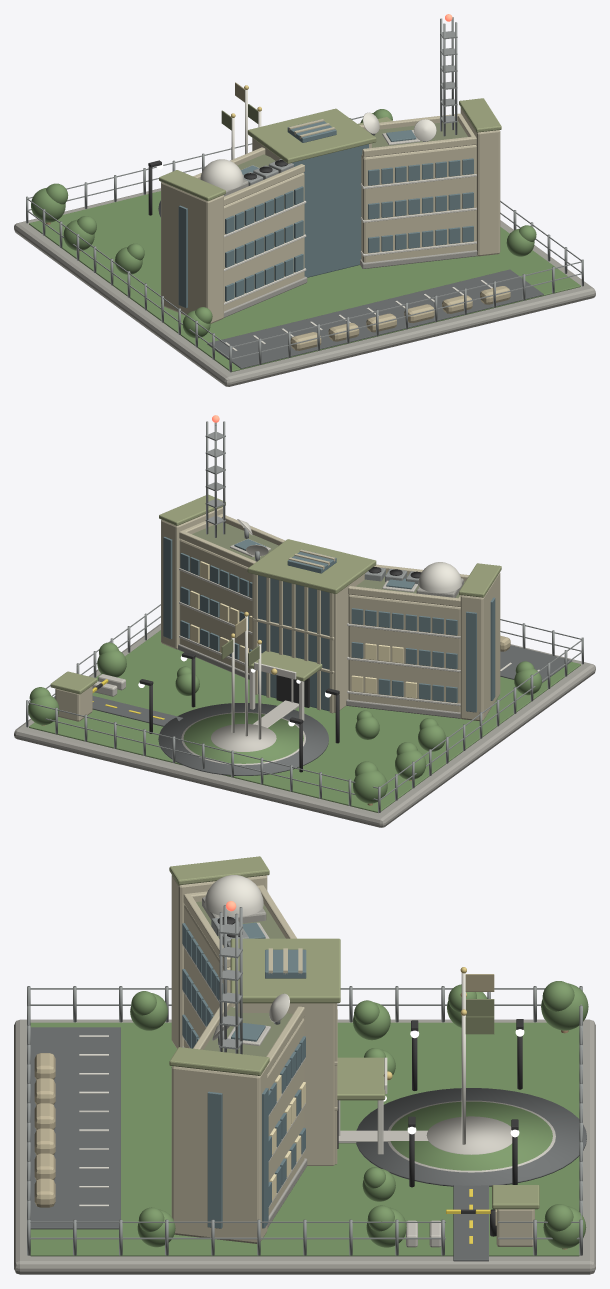
3 renders of one model, top to bottom at view 1: azimuth 30°, elevation 25°; view 2: azimuth 150°, elevation 25°; view 3: azimuth 270°, elevation 25°, orthographic. The views are drawn at different scales.
Parts seen in each view (by area): view 1: Cube.001, Cube, Cube.030, Cube.002, Cube.166, Cube.156, Cube.099, Cube.178, Cube.087, Cube.084, Cube.157, Cube.159 (+13 smaller); view 2: Cube.001, Cube, Cube.099, Cube.166, Cylinder.001, Cube.030, Cube.156, Cube.178, Cylinder.003, Cube.176, Cube.087, Cylinder.004 (+25 smaller); view 3: Cube.001, Cube, Cube.002, Cube.087, Cylinder.001, Cylinder.003, Cube.178, Cube.177, Cube.030, Cylinder.004, Cube.013, Cube.156 (+38 smaller).
Boxes of the visible parts, x1,y1,x2,y2 form: Cube.001: (29, 191, 580, 371); Cube: (14, 188, 595, 386); Cube.030: (361, 145, 476, 262); Cube.002: (207, 269, 543, 368); Cube.166: (292, 144, 368, 277); Cube.156: (161, 182, 223, 323); Cube.099: (224, 172, 304, 311); Cube.178: (247, 108, 376, 163); Cube.087: (460, 107, 500, 256); Cube.084: (362, 136, 476, 157); Cube.157: (159, 170, 225, 201); Cube.159: (178, 205, 187, 308); Cube.001: (29, 630, 580, 812); Cube: (14, 623, 595, 827); Cube.099: (348, 594, 460, 712); Cube.166: (258, 575, 329, 711); Cylinder.001: (158, 703, 328, 775); Cube.030: (179, 539, 252, 673); Cube.156: (460, 572, 500, 720); Cube.178: (247, 539, 376, 593); Cylinder.003: (183, 713, 303, 763); Cube.176: (333, 571, 367, 712); Cube.087: (161, 507, 222, 649); Cylinder.004: (211, 724, 276, 751); Cube.001: (30, 1022, 579, 1256); Cube: (14, 1019, 595, 1274); Cube.002: (30, 1027, 120, 1229); Cube.087: (171, 1066, 267, 1243); Cylinder.001: (356, 1088, 586, 1186); Cylinder.003: (390, 1101, 552, 1170); Cube.178: (230, 938, 340, 1003); Cube.177: (238, 1003, 334, 1165); Cube.030: (267, 1018, 304, 1215); Cylinder.004: (426, 1116, 512, 1154); Cube.013: (453, 1185, 488, 1261); Cube.156: (171, 875, 267, 1048).
Bounding box in the file's own units: 3.92 × 2.45 × 3.92.
